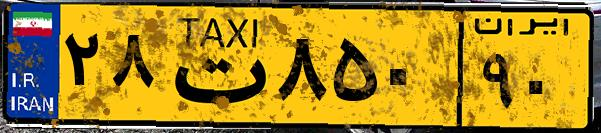0: (385, 28, 445, 110), (525, 38, 570, 115)
2: (57, 26, 110, 100)
5: (330, 28, 385, 110)
8: (270, 28, 330, 110), (110, 28, 158, 98)
9: (475, 38, 525, 113)
ت: (158, 12, 270, 120)
